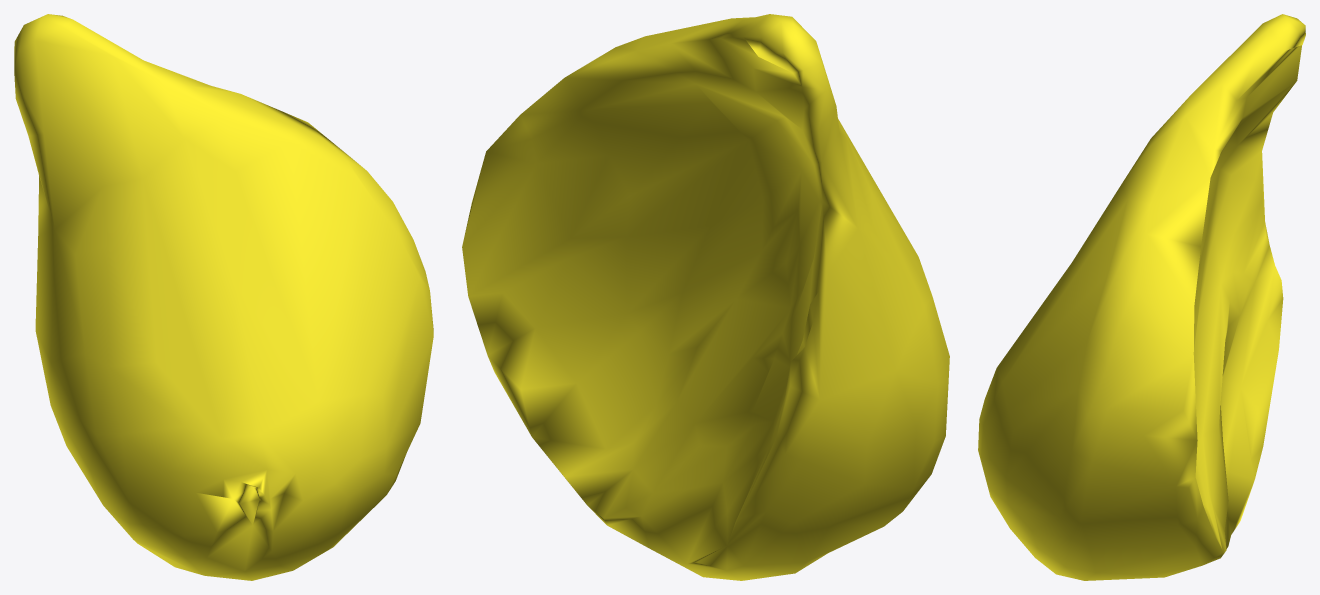
File: mammary_r.glb
3 views of the same model, side by side, from view 1: azimuth 30°, elevation 25°; view 2: azimuth 150°, elevation 25°; view 3: azimuth 270°, elevation 25° (orthographic). The views are drawn at different scales.
Visible parts, largest first — view 1: VH_F_fat_R; view 2: VH_F_fat_R; view 3: VH_F_fat_R.
Part boxes in pixels (x1,y1,x2,y2): VH_F_fat_R: (14,14,433,580); VH_F_fat_R: (462,14,949,580); VH_F_fat_R: (978,14,1305,580).
Bounding box in the file's own units: 0.1268 × 0.1798 × 0.106.
